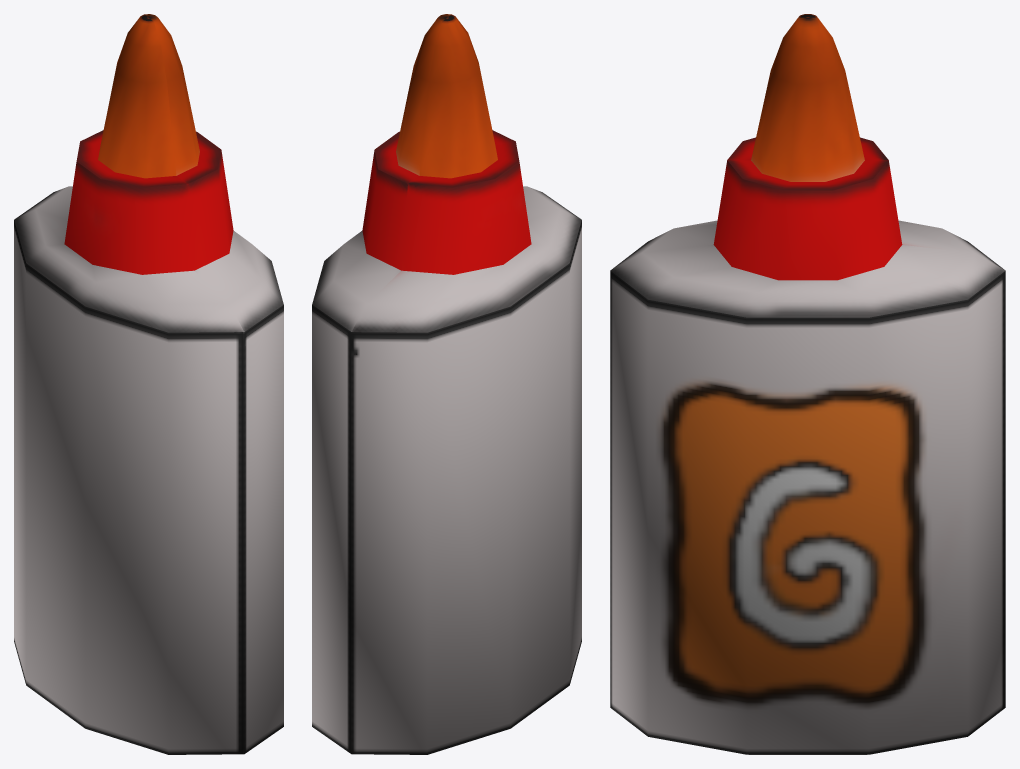
The model's file is glue.fbx.
3 views of the same model, side by side, from view 1: azimuth 30°, elevation 25°; view 2: azimuth 150°, elevation 25°; view 3: azimuth 270°, elevation 25° (orthographic). The views are drawn at different scales.
Parts seen in each view (by area): view 1: Glue; view 2: Glue; view 3: Glue.
Part boxes in pixels (x1,y1,x2,y2): Glue: (14,14,283,754); Glue: (312,14,581,754); Glue: (610,14,1005,754).
Bounding box in the file's own units: 9.06 × 31.33 × 16.06.
